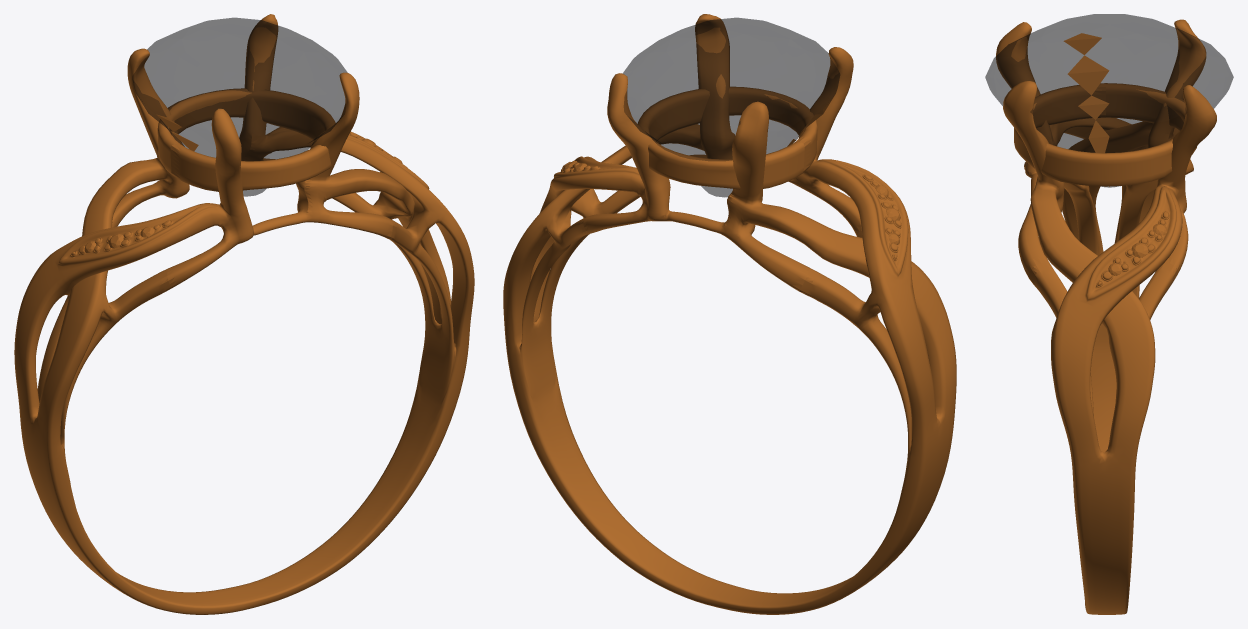
3 views of the same model, side by side, from view 1: azimuth 30°, elevation 25°; view 2: azimuth 150°, elevation 25°; view 3: azimuth 270°, elevation 25° (orthographic).
Parts seen in each view (by area): view 1: ring_01; view 2: ring_01; view 3: ring_01.
Boxes of the visible parts, box(x1,y1,x2,y2) form: ring_01: box(14, 14, 474, 614); ring_01: box(503, 14, 956, 614); ring_01: box(985, 14, 1233, 614).
Size of the model in its own units: 31.31 by 39.38 by 16.06.
